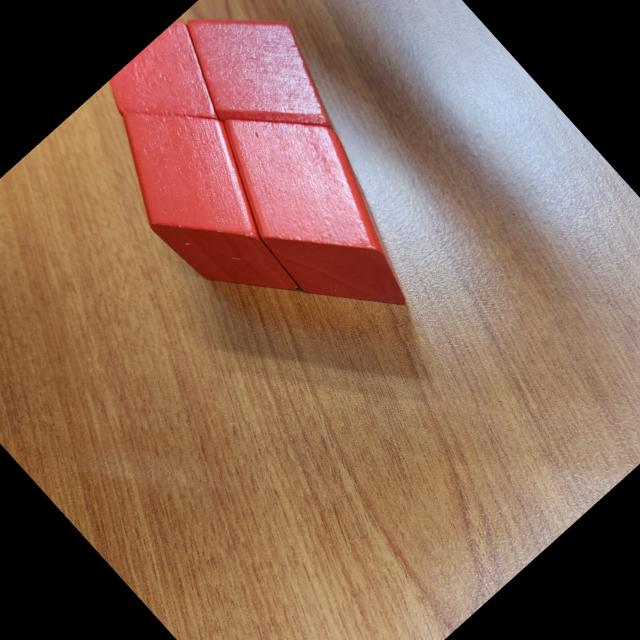red: (183, 69, 454, 349), (80, 66, 342, 337), (156, 0, 361, 179), (98, 16, 248, 166)
